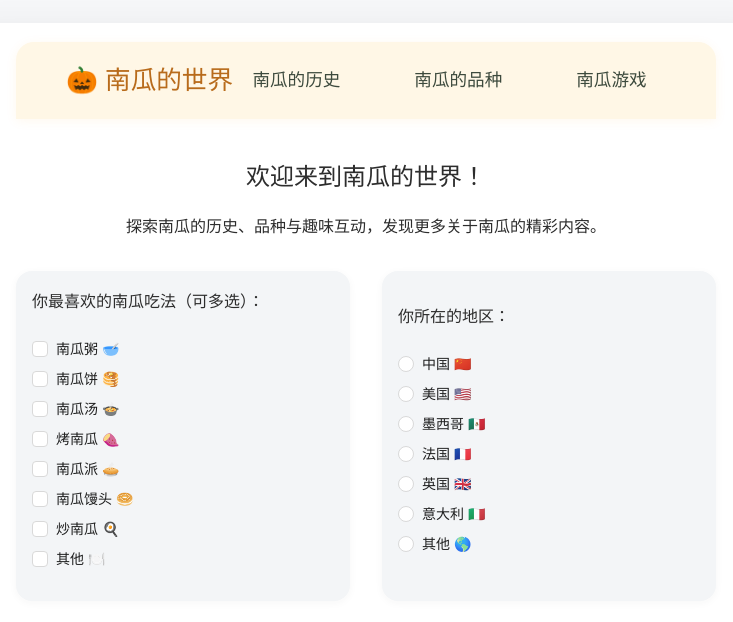
Test: Pumpkin Web 快速测试 › 首页多选和单选交互
Click the checkbox "南瓜粥 🥣". click: (76, 349)
box: [32,340,119,357]
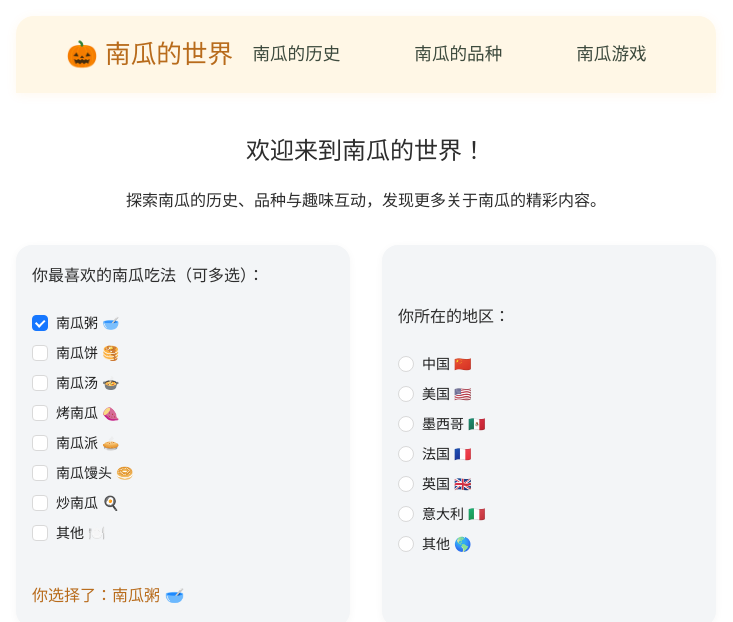
Click the checkbox "南瓜饼 🥞". click: (76, 353)
box: [32,344,119,361]
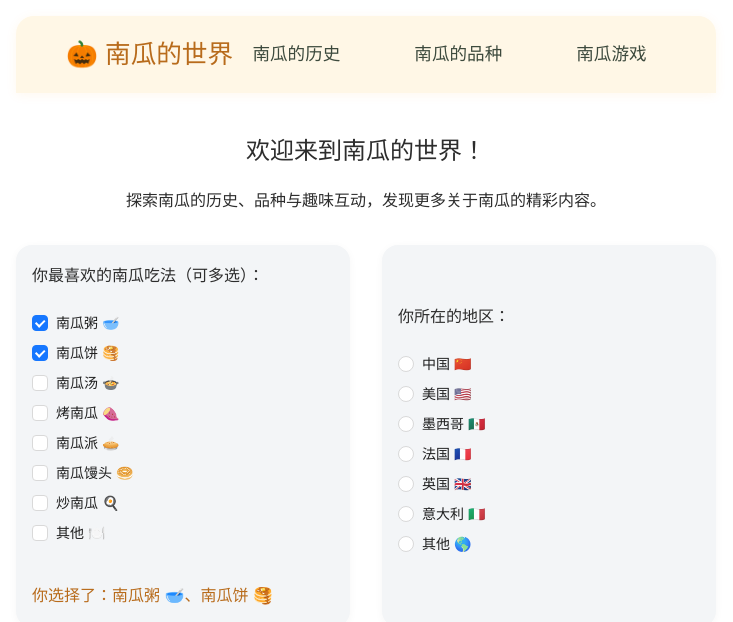
Result: the text "你选择了" shows "南瓜粥" at [112,587,273,604]
Result: the text "你选择了" shows "南瓜饼" at [112,587,273,604]
Click the radio button "中国 🇨🇳". click: (435, 364)
box: [398,355,471,372]
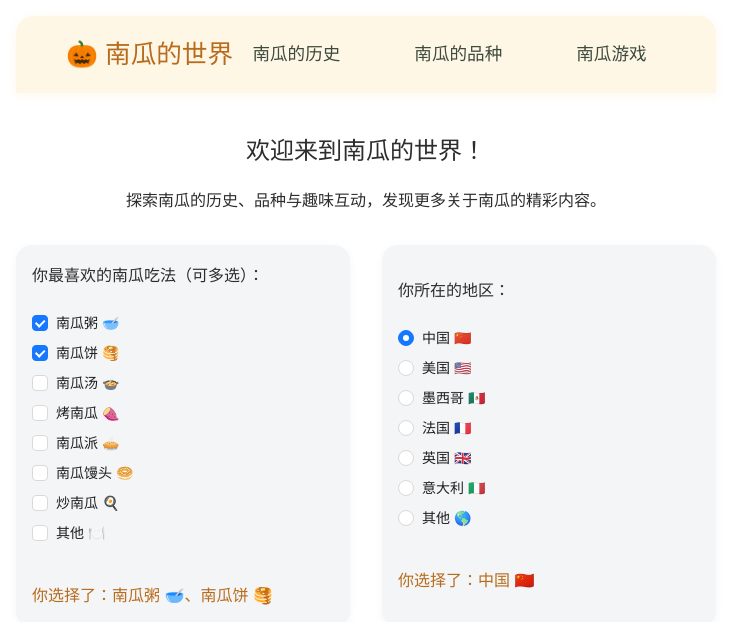
Result: the text "你选择了" shows "中国" at [478,572,534,589]
